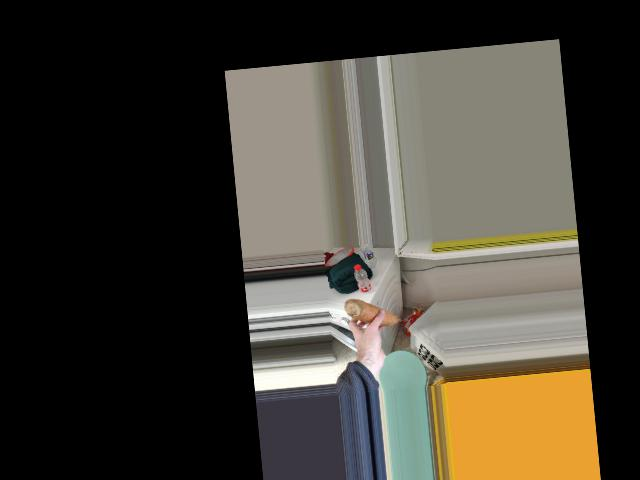sweet_potato: (346, 292, 397, 334)
